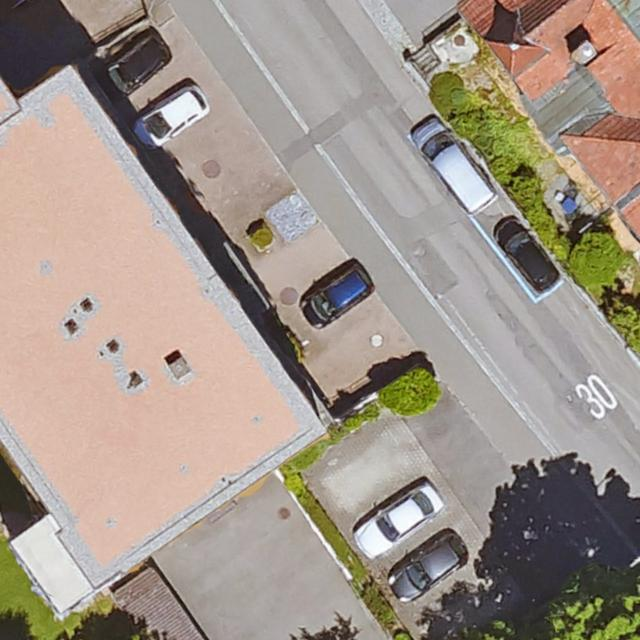tree: (545, 561, 640, 640), (572, 223, 626, 282), (610, 300, 640, 352), (462, 621, 526, 640), (129, 634, 161, 640)
